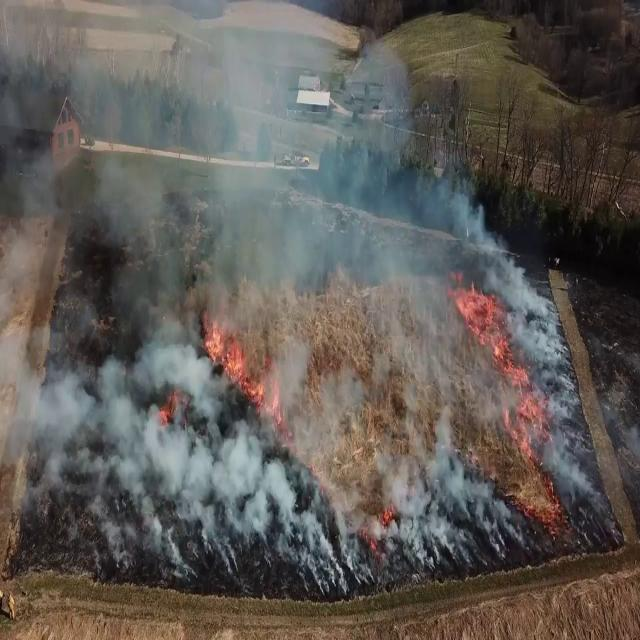Fire: (200, 308, 254, 406)
Smoke: (0, 4, 542, 576)
